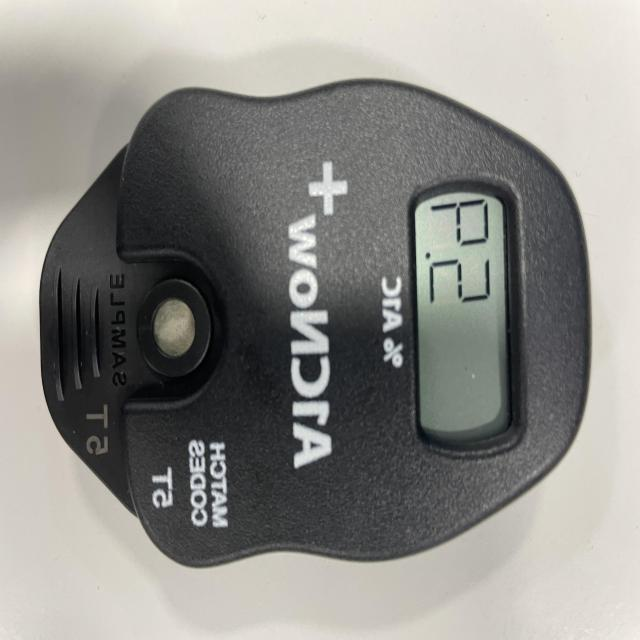hba1c: (37, 78, 594, 573)
